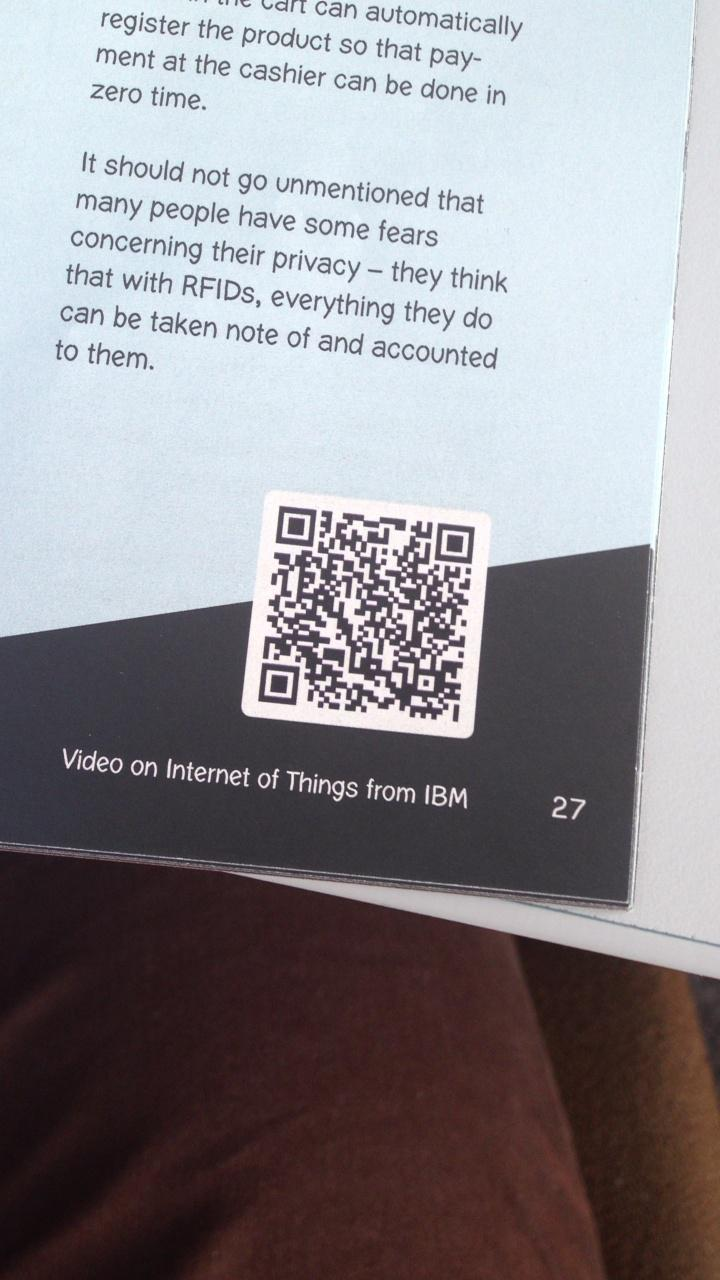Finder pattern: (250, 657, 304, 708), (271, 501, 318, 549), (431, 518, 478, 566)
